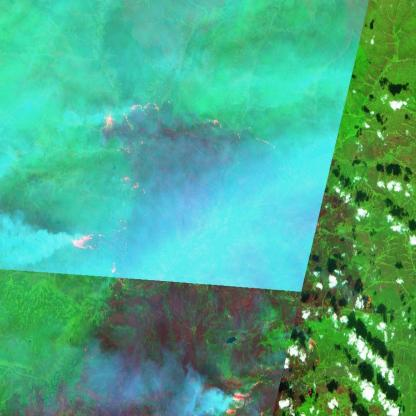fire: (93, 89, 165, 155), (68, 224, 114, 268), (222, 379, 266, 416)
